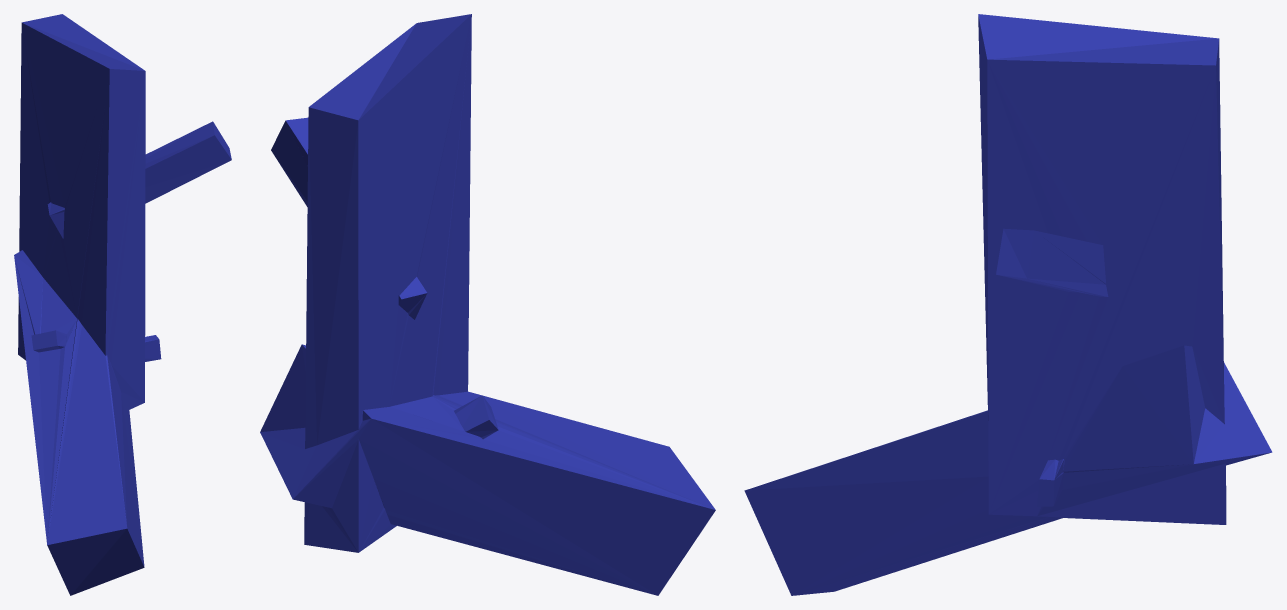
The picture shows the model from 3 angles, left to right: view 1: azimuth 30°, elevation 25°; view 2: azimuth 150°, elevation 25°; view 3: azimuth 270°, elevation 25°; orthographic projection. The views are drawn at different scales.
Parts seen in each view (by area): view 1: 756_Cube.3042; view 2: 756_Cube.3042; view 3: 756_Cube.3042.
Boxes of the visible parts, box(x1,y1,x2,y2) form: 756_Cube.3042: box(14, 14, 231, 595); 756_Cube.3042: box(260, 14, 715, 595); 756_Cube.3042: box(744, 14, 1272, 595).
Size of the model in its own units: 9.75 by 16.49 by 12.35.
